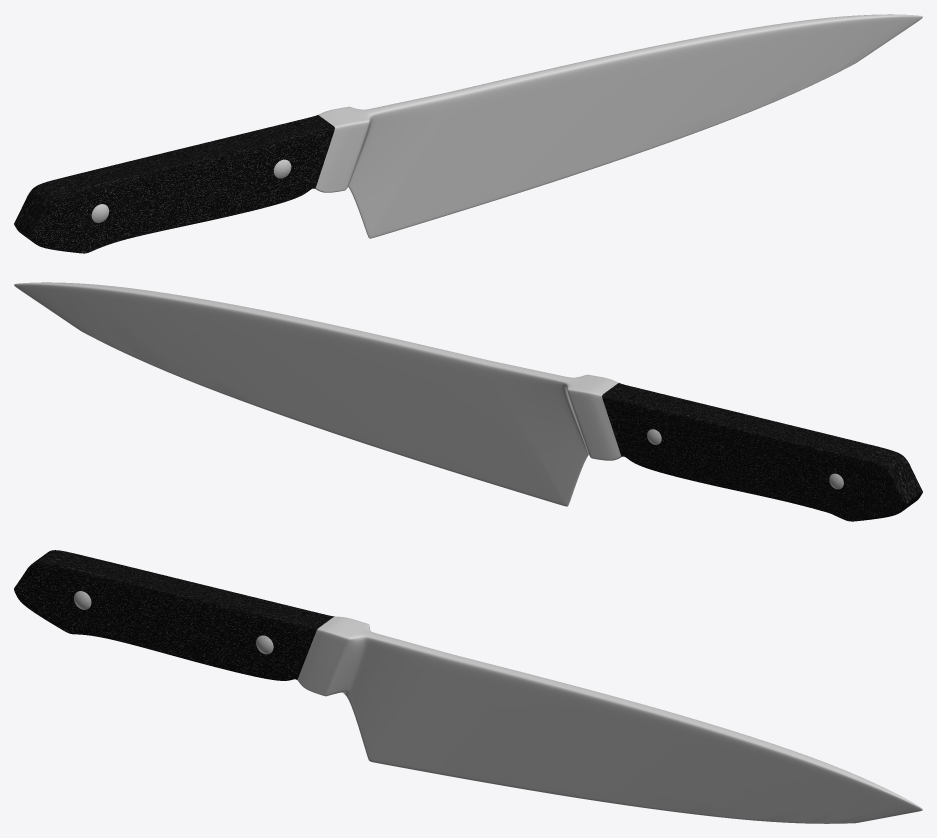
File: sf-knife-4c75aae7.glb
3 renders of one model, top to bottom at view 1: azimuth 30°, elevation 25°; view 2: azimuth 150°, elevation 25°; view 3: azimuth 330°, elevation 25°, orthographic.
Parts seen in each view (by area): view 1: Object_6, Object_7; view 2: Object_6, Object_7; view 3: Object_6, Object_7.
Boxes of the visible parts, left/top/right/bottom form: Object_6: left=315, top=14, right=922, bottom=238; Object_7: left=14, top=115, right=334, bottom=253; Object_6: left=14, top=282, right=621, bottom=506; Object_7: left=602, top=383, right=922, bottom=521; Object_6: left=297, top=616, right=922, bottom=823; Object_7: left=14, top=550, right=334, bottom=680.
Bounding box in the file's own units: 0.468 × 0.0642 × 0.0188.
2 materials, 1 textured.
